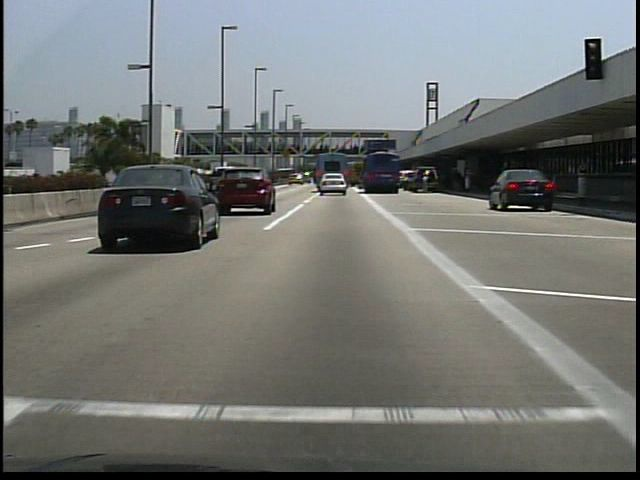person: (448, 165, 465, 198)
